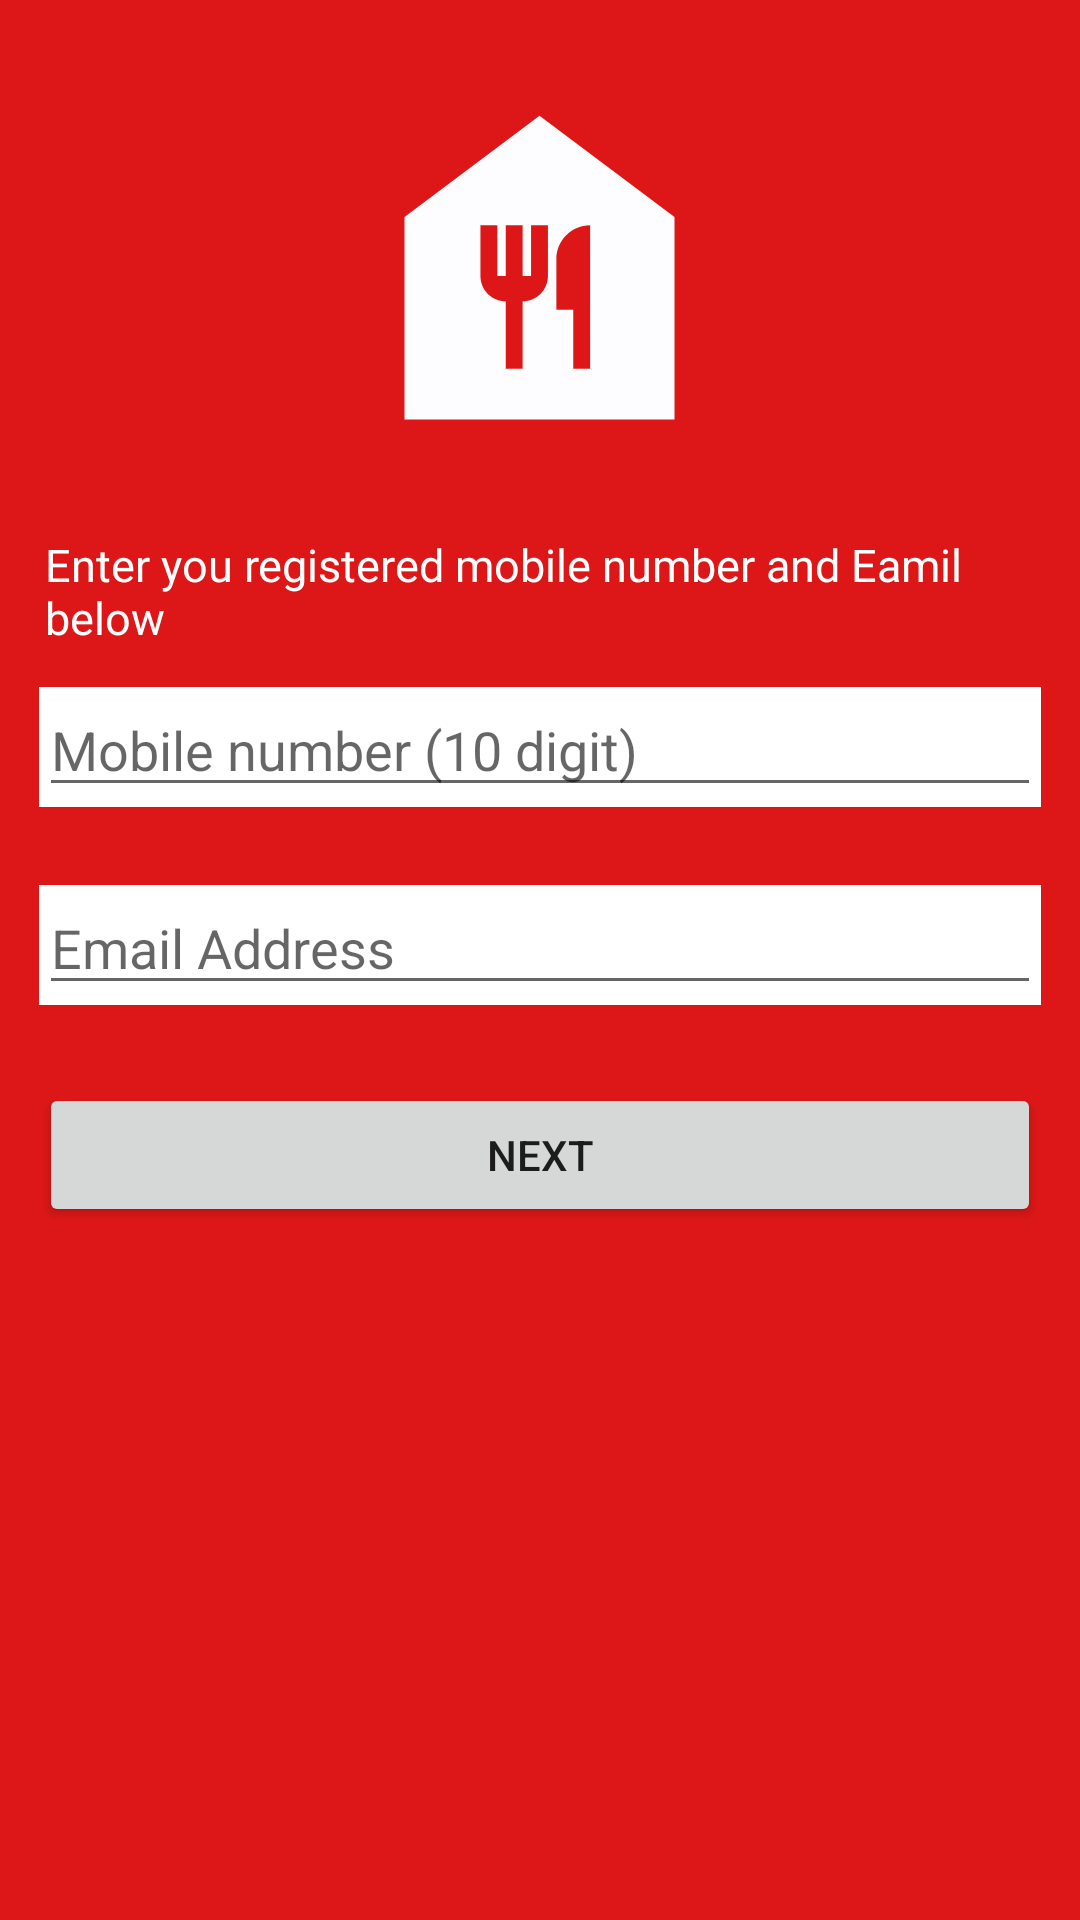

Where icons sit on this 1080 × 1920 app screen, as (x1, y1, x2, y2):
foodicon: (404, 116, 675, 420)
